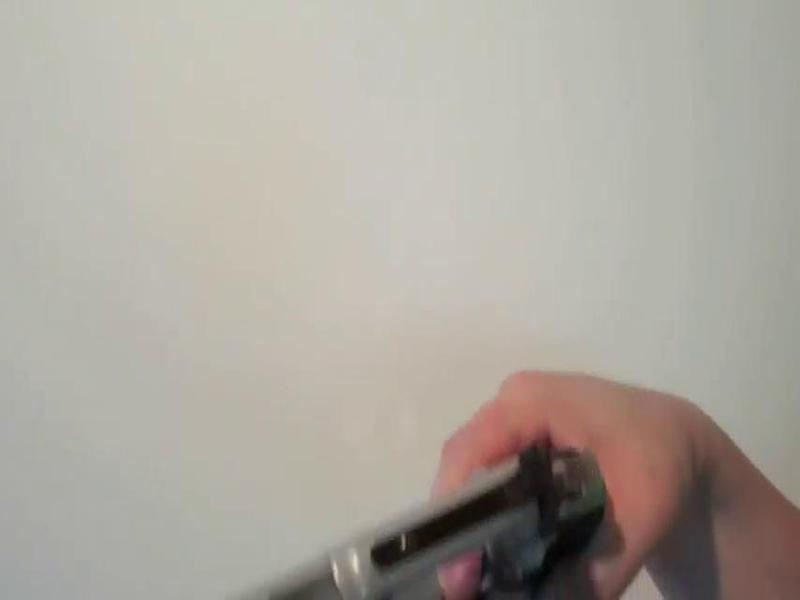Revolver: (206, 398, 636, 600)
